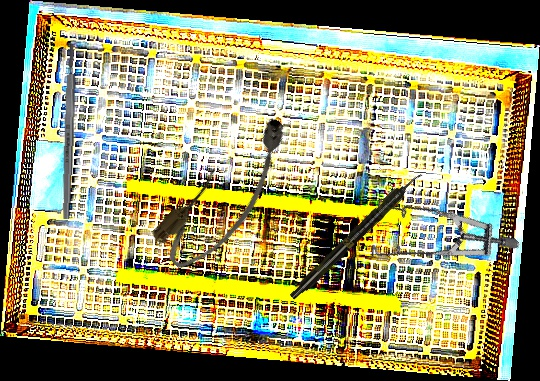Cannula: (146, 109, 311, 280)
Handpiece: (286, 167, 427, 304)
Scalpel Handle: (60, 43, 78, 220)
Speculum: (348, 157, 522, 325)
